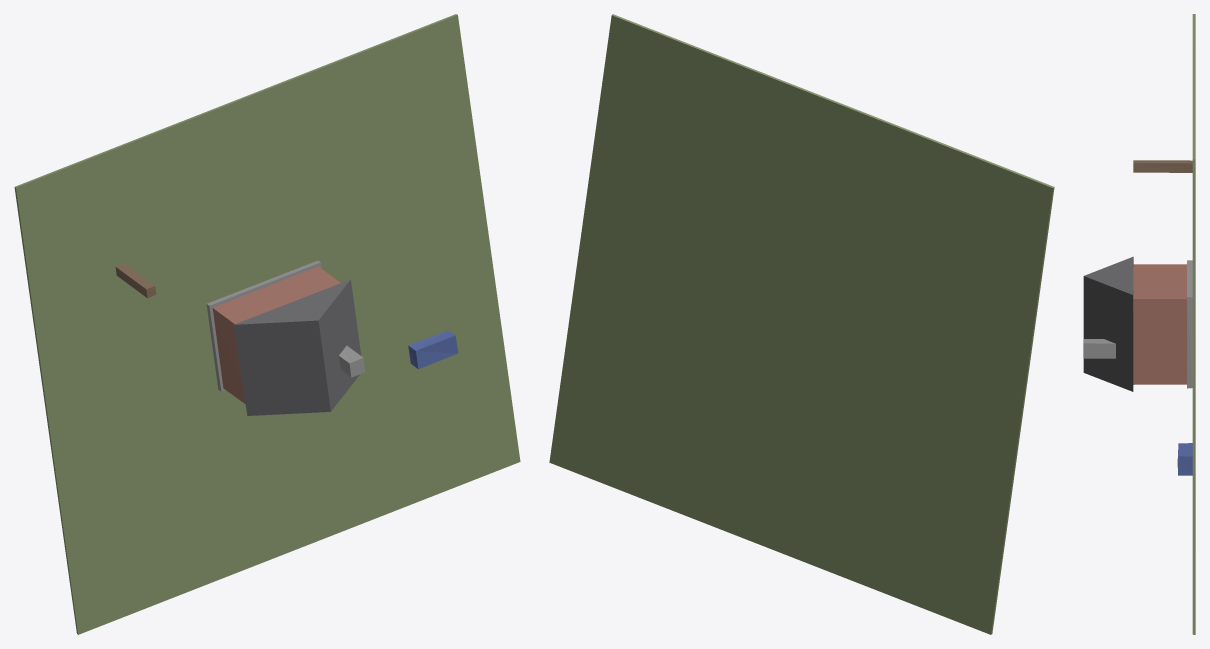
Rendered from fake_scan.glb.
The picture shows the model from 3 angles, left to right: view 1: azimuth 30°, elevation 25°; view 2: azimuth 150°, elevation 25°; view 3: azimuth 270°, elevation 25°; orthographic projection. The views are drawn at different scales.
Parts seen in each view (by area): view 1: geometry_0; view 2: geometry_0; view 3: geometry_0.
Boxes of the visible parts, x1=… form: geometry_0: x1=14, y1=14, x2=520, y2=634; geometry_0: x1=549, y1=14, x2=1054, y2=634; geometry_0: x1=1083, y1=14, x2=1195, y2=634.
Bounding box in the file's own units: 56.54 × 56.5 × 11.31.
